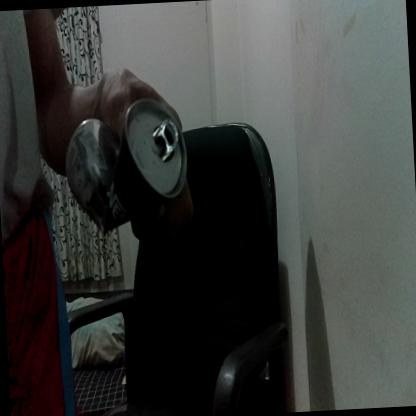alumunium_can: (63, 90, 190, 220)
